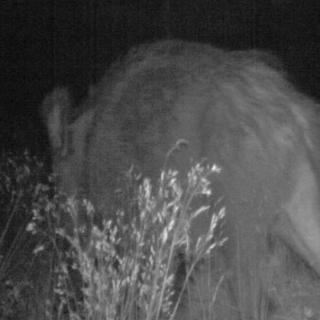Pig: (40, 13, 320, 320)
